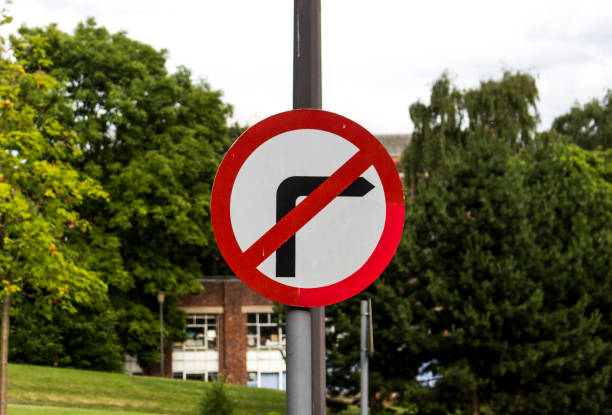saga_girilmez: (209, 105, 411, 309)
